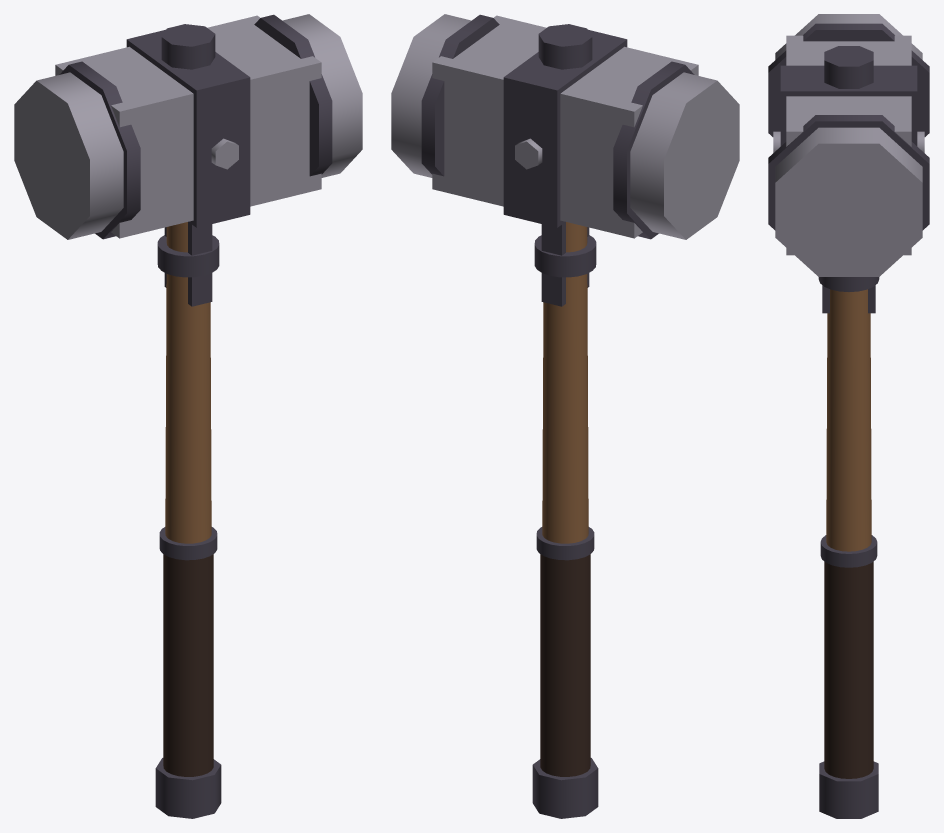
The model's file is Hammer.glb.
3 views of the same model, side by side, from view 1: azimuth 30°, elevation 25°; view 2: azimuth 150°, elevation 25°; view 3: azimuth 270°, elevation 25° (orthographic). The views are drawn at different scales.
Parts seen in each view (by area): view 1: head, faceL, shaft, grip, headBand, faceR, faceRimR, faceRimL, pommel, headTop, collar, langetF (+2 smaller); view 2: head, faceL, shaft, grip, headBand, faceR, faceRimR, faceRimL, pommel, headTop, collar, langetB (+2 smaller); view 3: faceR, shaft, grip, head, headBand, faceRimL, faceRimR, pommel, headTop, faceL, gripBand, collar.
Part boxes in pixels (box(x1,y1,x2,y2)): head: box(55, 15, 321, 238); faceL: box(14, 72, 123, 239); shaft: box(165, 222, 211, 543); grip: box(163, 554, 213, 776); headBand: box(126, 29, 250, 227); faceR: box(282, 14, 362, 177); faceRimR: box(254, 14, 332, 176); faceRimL: box(59, 61, 140, 239); pommel: box(155, 758, 221, 818); headTop: box(161, 24, 215, 69); collar: box(157, 235, 219, 277); langetF: box(188, 222, 212, 306); head: box(432, 15, 698, 238); faceL: box(630, 72, 739, 239); shaft: box(542, 222, 588, 543); grip: box(540, 554, 590, 776); headBand: box(503, 29, 627, 227); faceR: box(391, 14, 471, 177); faceRimR: box(421, 14, 499, 176); faceRimL: box(613, 61, 694, 239); pommel: box(532, 758, 598, 818); headTop: box(538, 24, 592, 69); collar: box(534, 235, 596, 277); langetB: box(541, 222, 565, 306); faceR: box(775, 127, 922, 276); shaft: box(826, 289, 871, 551); grip: box(824, 562, 873, 778); head: box(786, 35, 911, 255); headBand: box(780, 65, 917, 145); faceRimL: box(768, 23, 929, 136); faceRimR: box(768, 115, 929, 230); pommel: box(819, 761, 878, 818); headTop: box(824, 46, 873, 88); faceL: box(775, 14, 922, 59); gripBand: box(820, 535, 877, 567); collar: box(818, 277, 879, 291).
Bounding box in the file's own units: 1.62 × 4.37 × 0.85.
